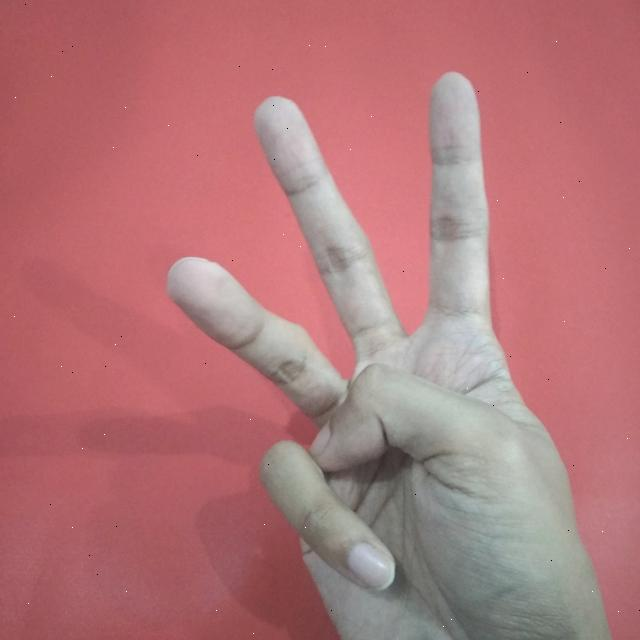W: (163, 65, 634, 640)
